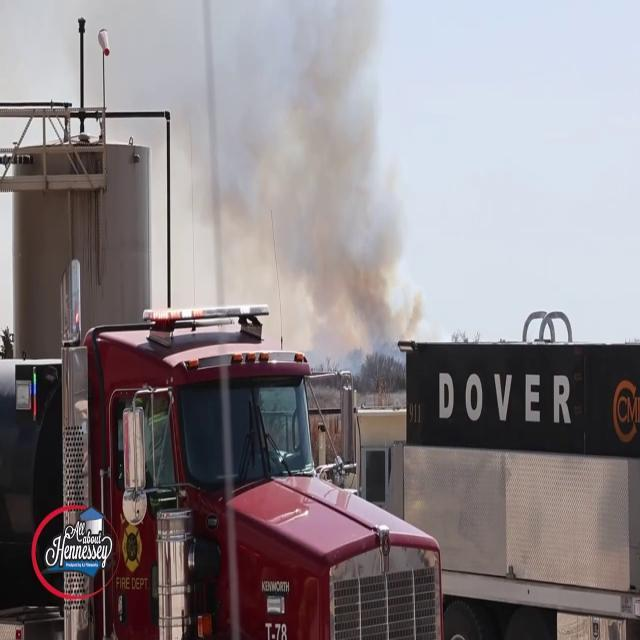Smoke: (158, 0, 432, 348)
